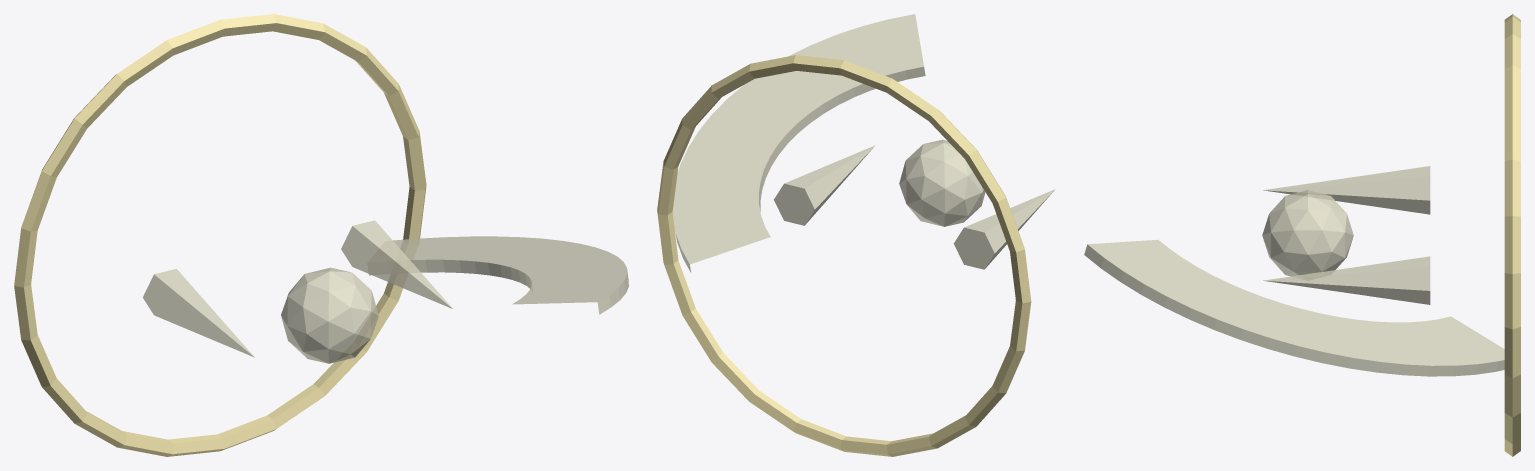
File: 01_special_attack_vfx.glb
3 views of the same model, side by side, from view 1: azimuth 30°, elevation 25°; view 2: azimuth 150°, elevation 25°; view 3: azimuth 270°, elevation 25° (orthographic). The views are drawn at different scales.
Parts seen in each view (by area): view 1: impact_window_ring, combo_slash_or_magic_arc, timing_core, telegraph_spike_b, telegraph_spike_a; view 2: combo_slash_or_magic_arc, impact_window_ring, timing_core, telegraph_spike_b, telegraph_spike_a; view 3: combo_slash_or_magic_arc, impact_window_ring, timing_core, telegraph_spike_b, telegraph_spike_a.
Part boxes in pixels (x1,y1,x2,y2): impact_window_ring: [14, 14, 426, 456]; combo_slash_or_magic_arc: [368, 236, 628, 314]; timing_core: [281, 267, 378, 363]; telegraph_spike_b: [341, 220, 452, 308]; telegraph_spike_a: [143, 269, 254, 357]; combo_slash_or_magic_arc: [672, 14, 925, 272]; impact_window_ring: [657, 55, 1031, 456]; timing_core: [899, 139, 985, 226]; telegraph_spike_b: [774, 145, 875, 225]; telegraph_spike_a: [953, 189, 1055, 269]; combo_slash_or_magic_arc: [1084, 239, 1504, 376]; impact_window_ring: [1504, 14, 1520, 456]; timing_core: [1262, 190, 1353, 276]; telegraph_spike_b: [1263, 256, 1430, 304]; telegraph_spike_a: [1263, 166, 1430, 214].
Bounding box in the file's own units: 1.65 × 1.46 × 1.43.
